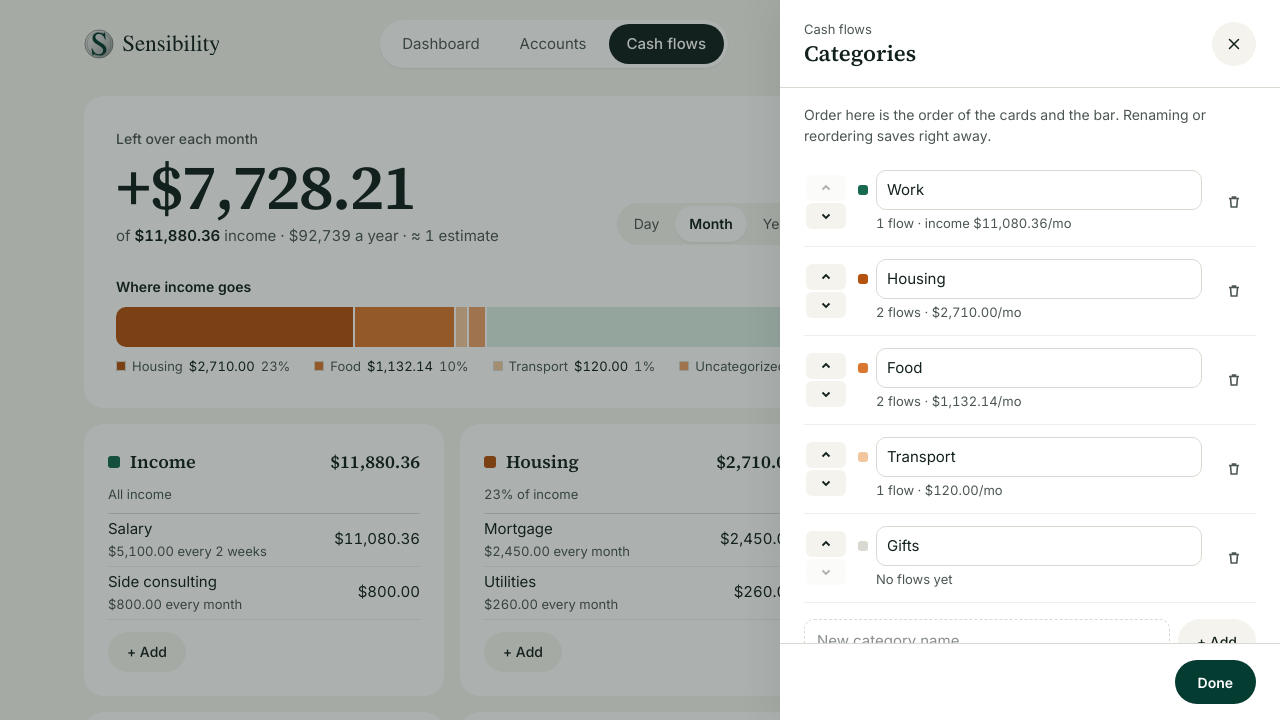
the categories drawer › renames when the field loses focus
This screenshot has width=1280, height=720.
Expected: the dialog "Categories" is shown, 780,0 -> 1279,719
Replace the text in the field named "Name of Food" with "Food & drink" at (1039, 368), box 876,348 -> 1202,388
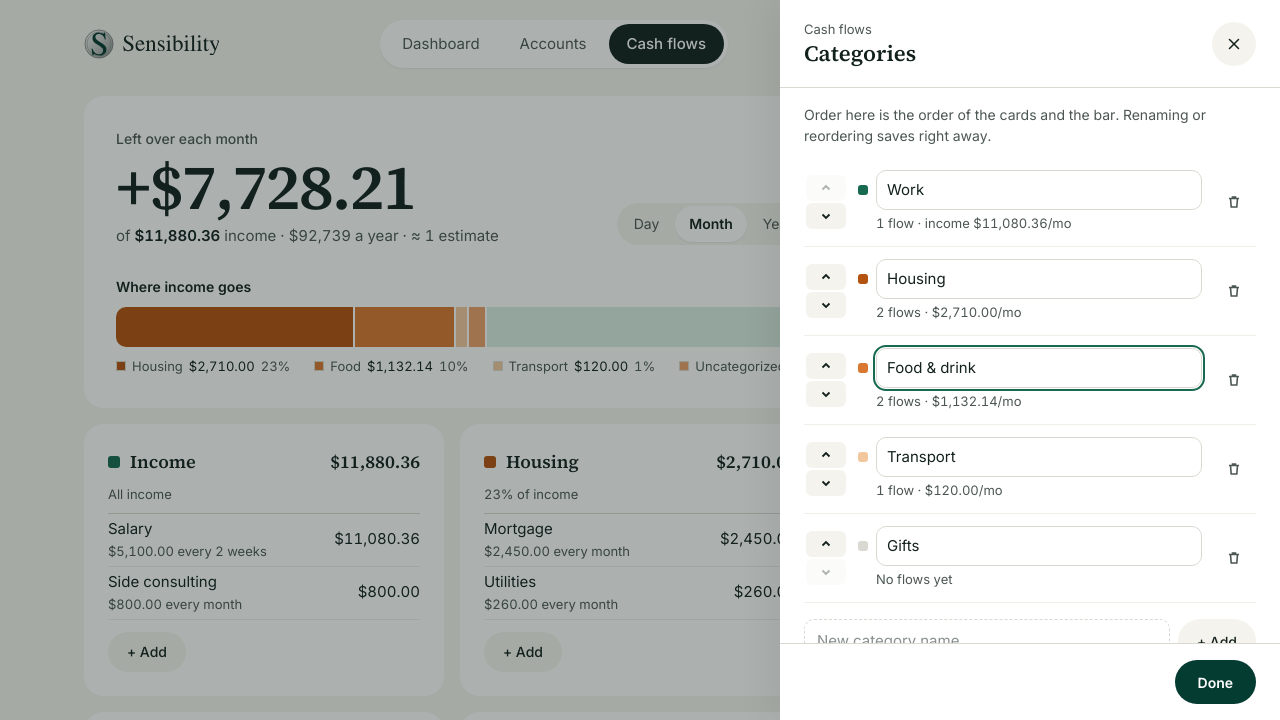
Press Tab
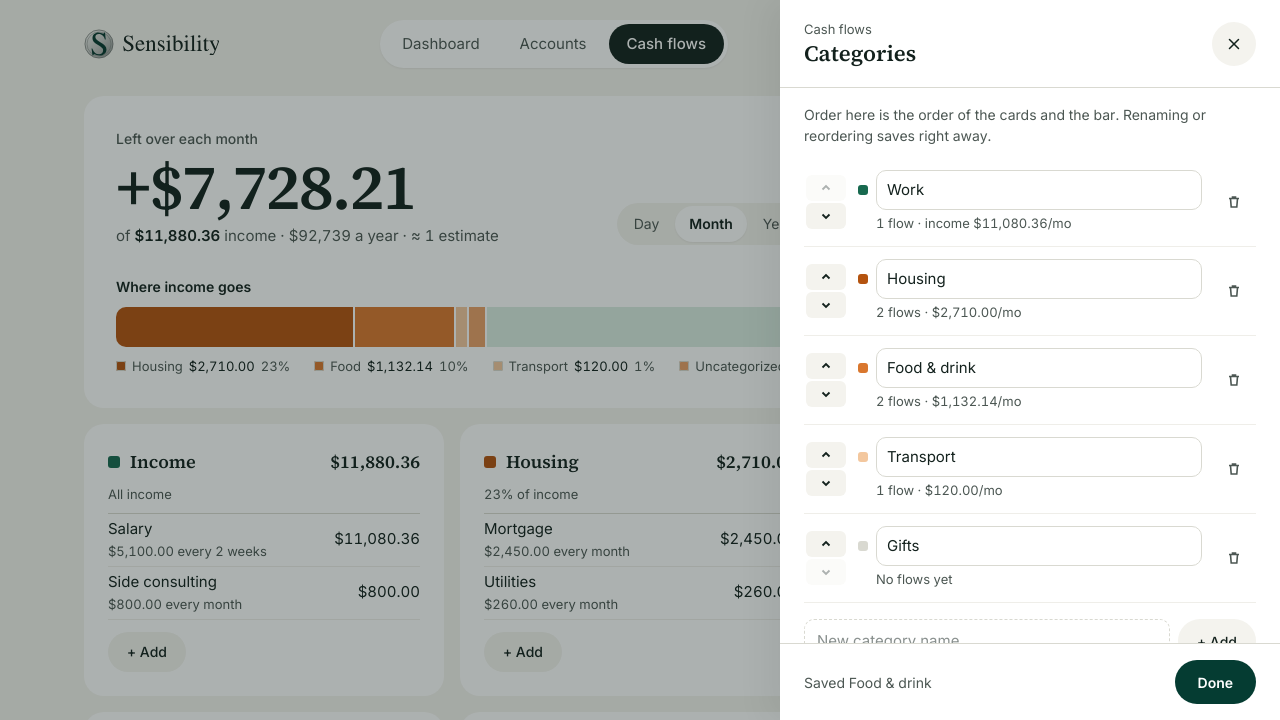
Expected: the message reads "Saved Food & drink", 804,674 -> 932,690
